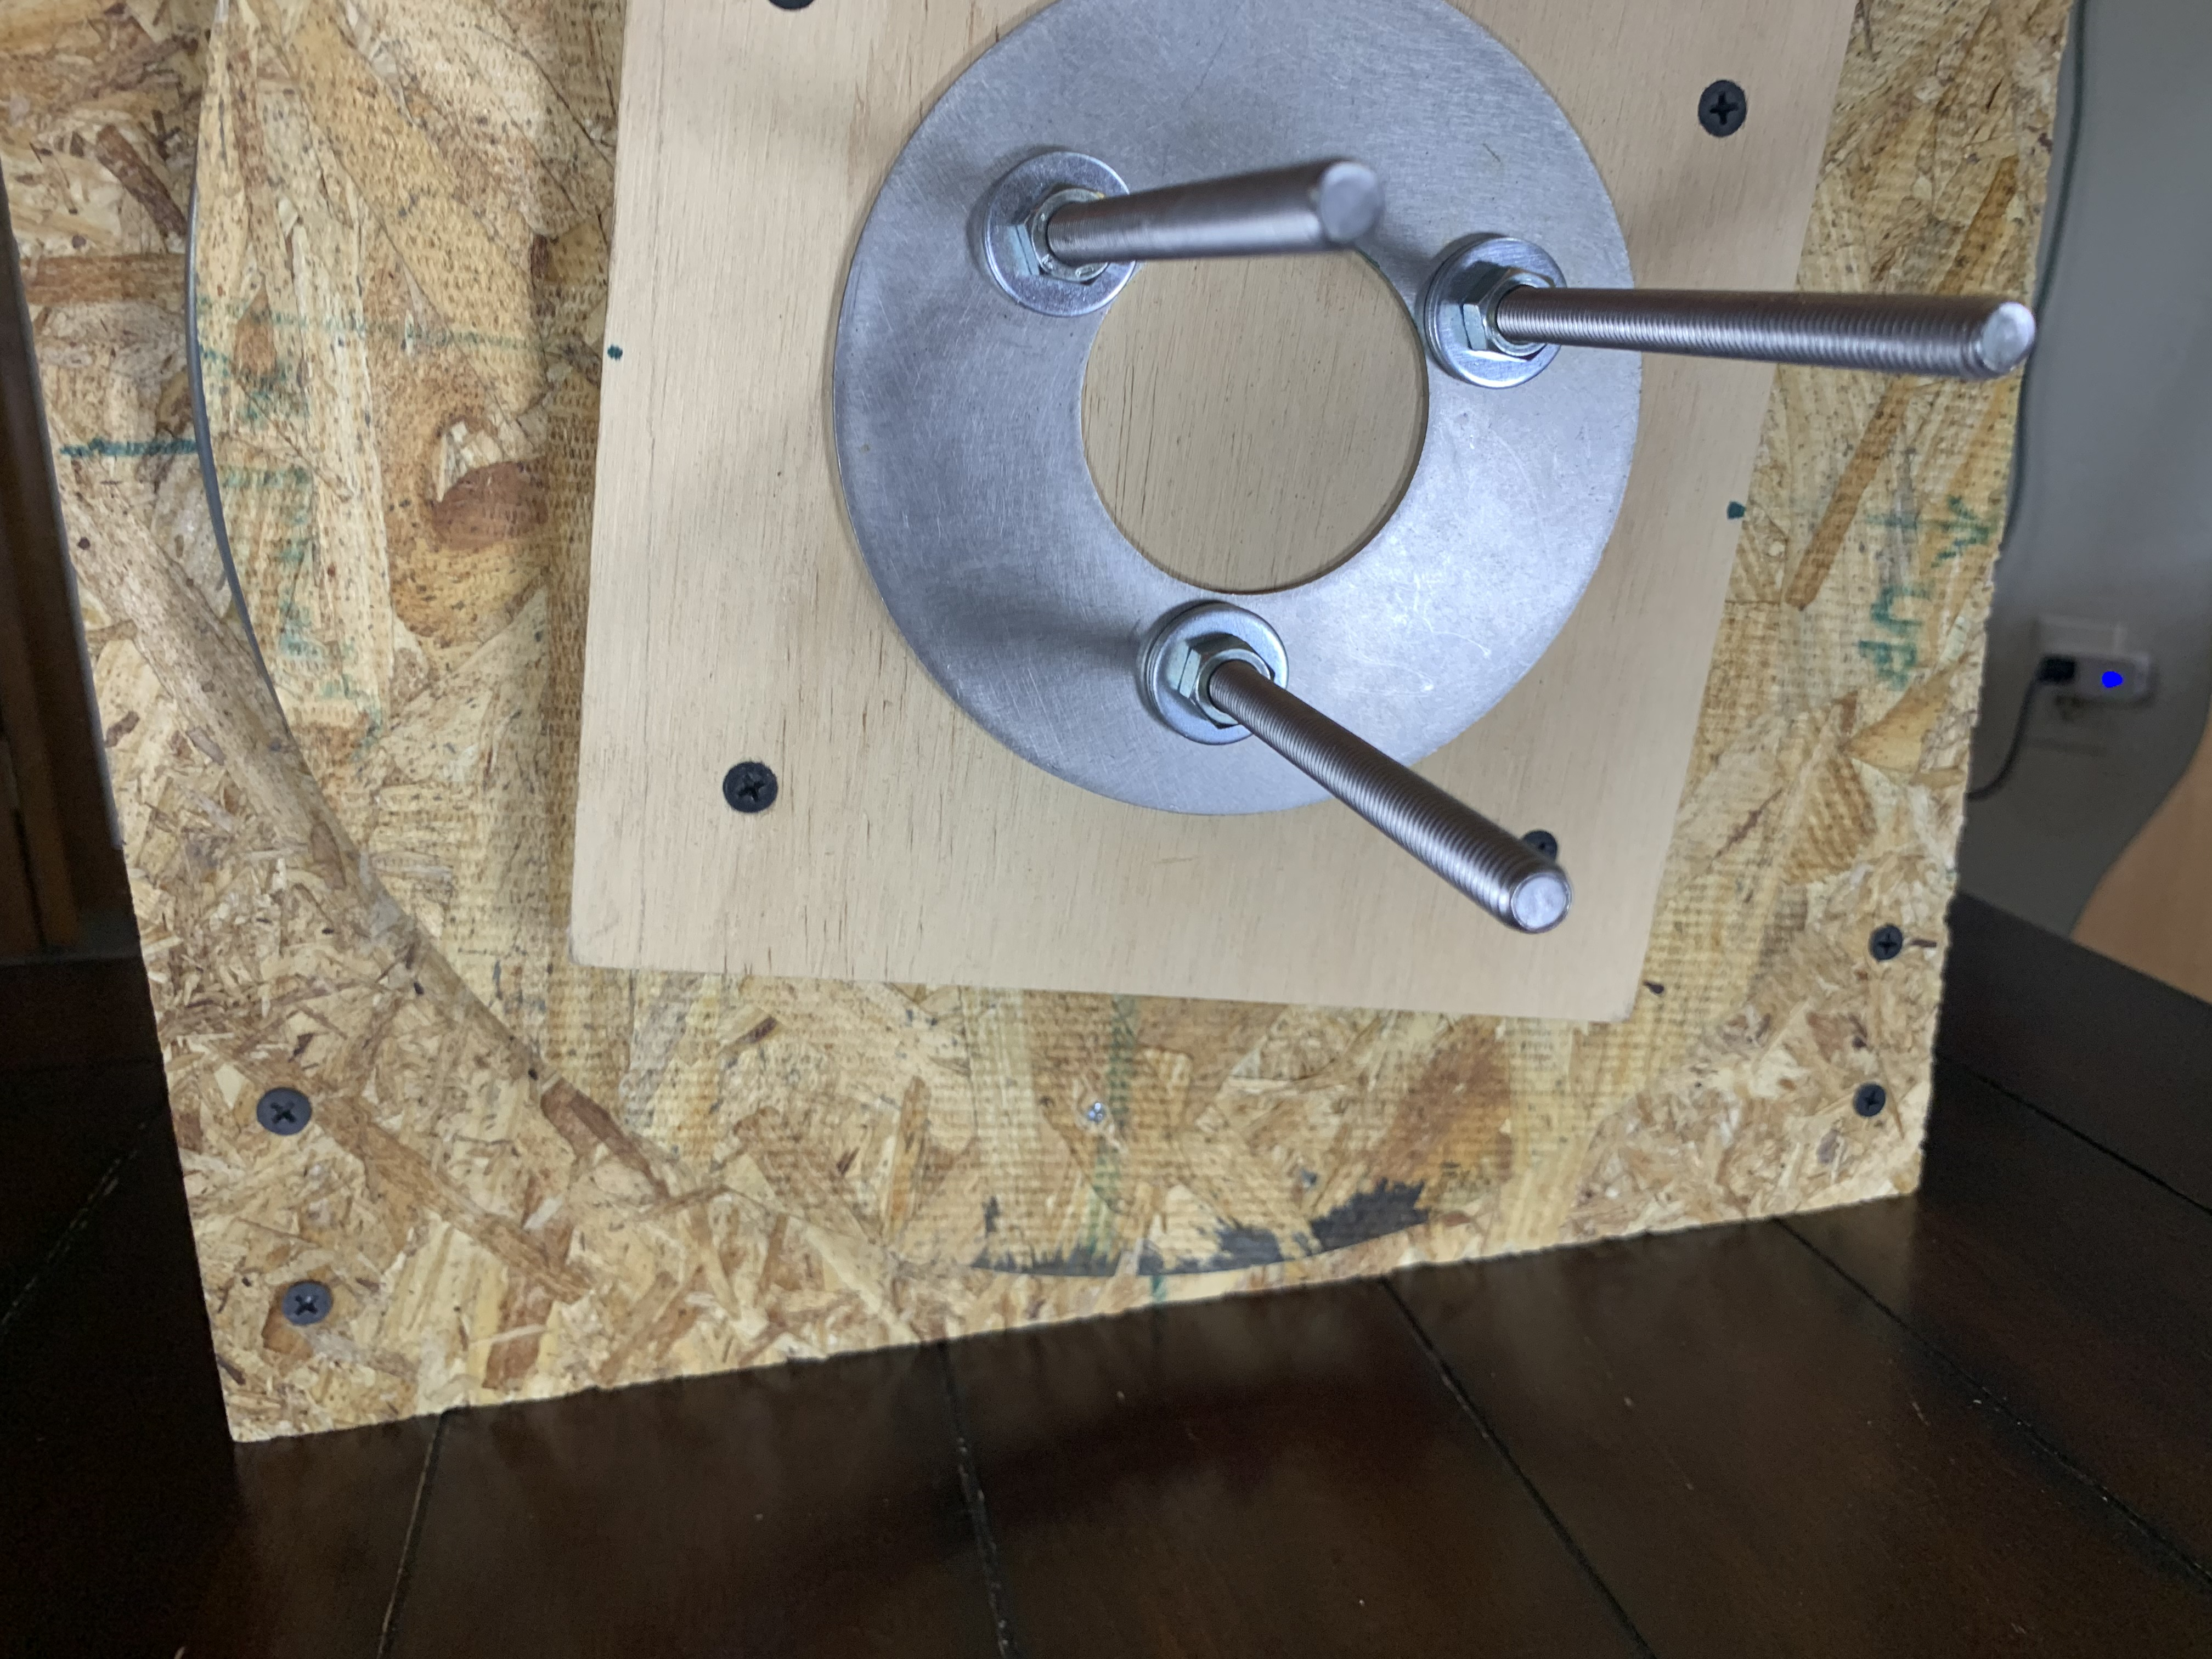bolt: (975, 138, 1141, 324), (1420, 227, 1568, 394), (1137, 592, 1296, 744)
